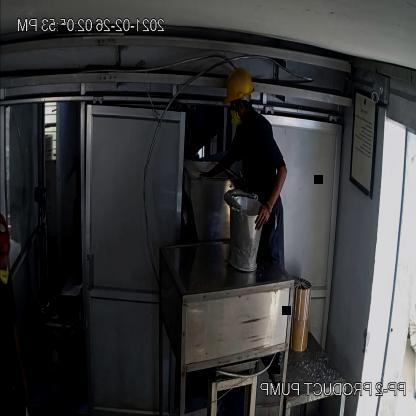helmet: (219, 62, 260, 113)
